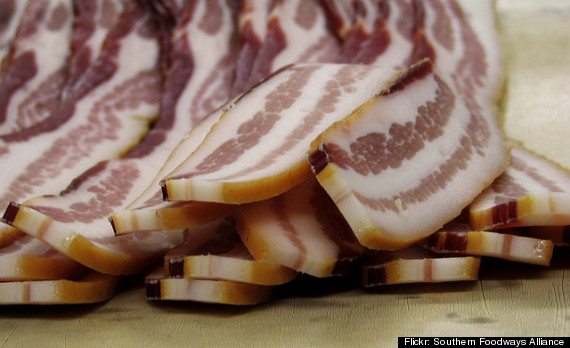bacon: (1, 1, 547, 296)
